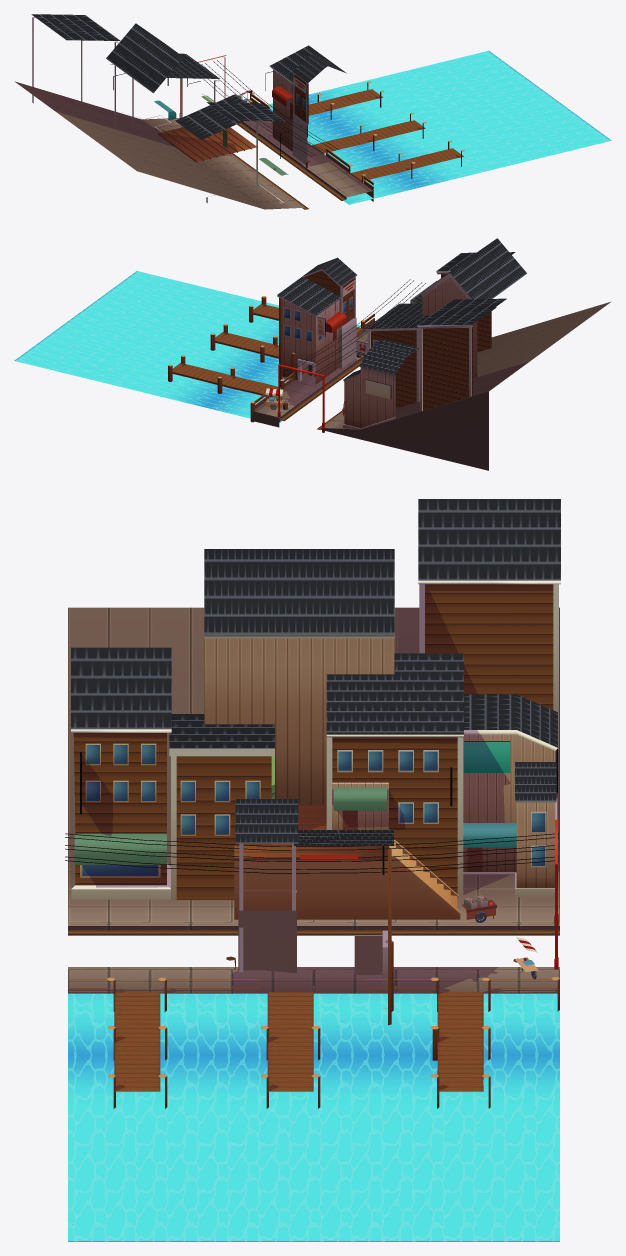
Rendered from 1.100_SanFrancisco_gates_base.glb.
The picture shows the model from 3 angles, top to bottom: view 1: azimuth 30°, elevation 25°; view 2: azimuth 150°, elevation 25°; view 3: azimuth 270°, elevation 25°; orthographic projection. The views are drawn at different scales.
Parts seen in each view (by area): view 1: 1.100_SanFrancisco_gates_base; view 2: 1.100_SanFrancisco_gates_base; view 3: 1.100_SanFrancisco_gates_base.
Boxes of the visible parts, left/top/right/bottom form: 1.100_SanFrancisco_gates_base: left=14, top=14, right=611, bottom=209; 1.100_SanFrancisco_gates_base: left=14, top=238, right=611, bottom=470; 1.100_SanFrancisco_gates_base: left=65, top=499, right=560, bottom=1241.
Bounding box in the file's own units: 803 × 254 × 363.
Materials: 3 (3 with a texture image).
